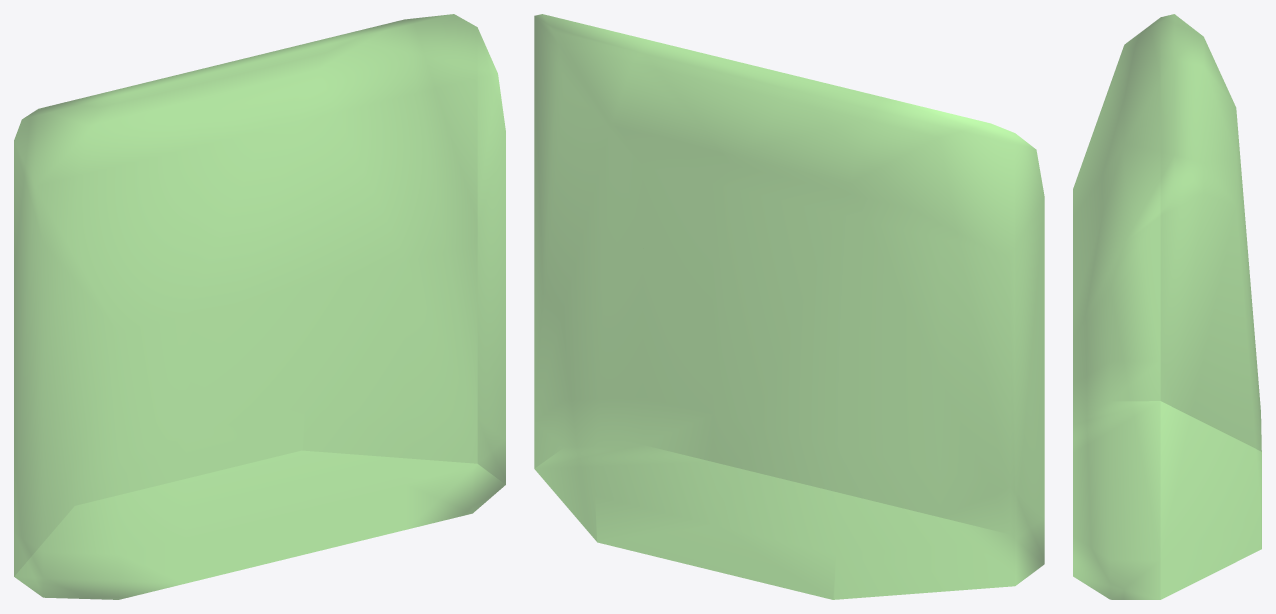
Rendered from ShipCollider.DAE.
3 views of the same model, side by side, from view 1: azimuth 30°, elevation 25°; view 2: azimuth 150°, elevation 25°; view 3: azimuth 270°, elevation 25° (orthographic). The views are drawn at different scales.
Parts seen in each view (by area): view 1: Box090; view 2: Box090; view 3: Box090.
Part boxes in pixels (x1=…): Box090: x1=14, y1=14, x2=505, y2=599; Box090: x1=534, y1=14, x2=1044, y2=599; Box090: x1=1073, y1=14, x2=1261, y2=599.
Bounding box in the file's own units: 1.85 × 1.71 × 0.7433.
